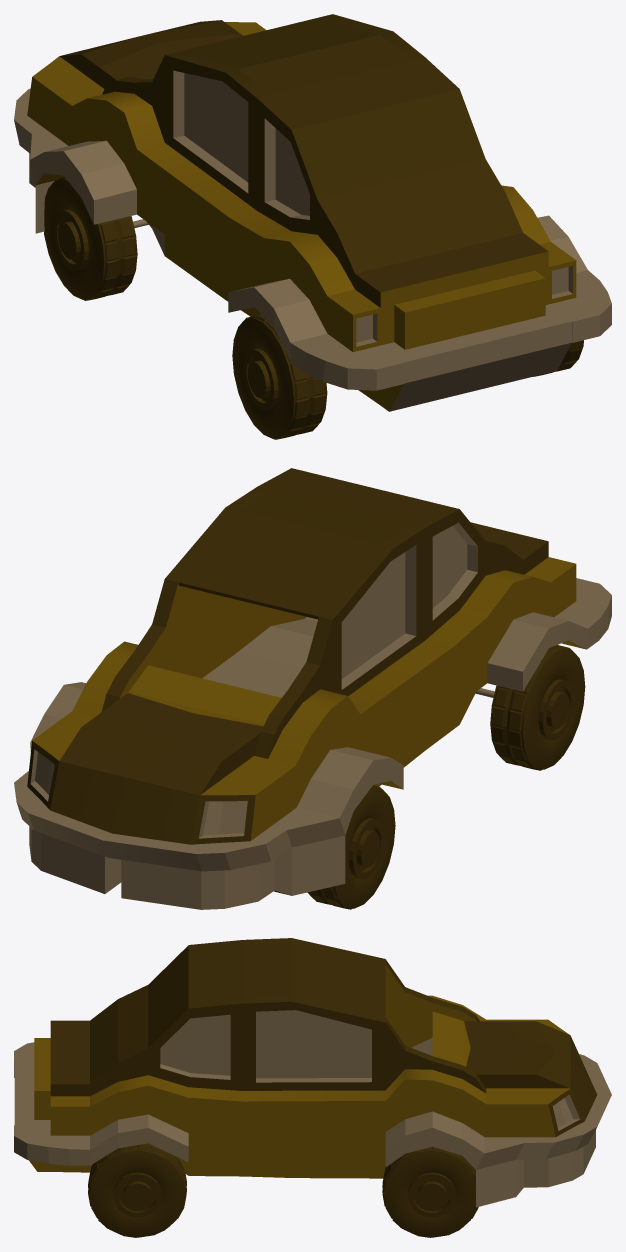
Rendered from Car_Blocks.fbx.
The picture shows the model from 3 angles, top to bottom: view 1: azimuth 30°, elevation 25°; view 2: azimuth 150°, elevation 25°; view 3: azimuth 270°, elevation 25°; orthographic projection. The views are drawn at different scales.
Visible parts, largest first — view 1: pCube3, pasted__pCylinder12, pasted__pCylinder11; view 2: pCube3, pasted__pCylinder12, pasted__pCylinder11; view 3: pCube3, pasted__pCylinder12, pasted__pCylinder11.
Boxes of the visible parts, x1,y1,x2,y2 form: pCube3: (14,14,611,411); pasted__pCylinder12: (232,314,583,439); pasted__pCylinder11: (44,177,148,300); pCube3: (14,468,611,909); pasted__pCylinder12: (475,645,585,770); pasted__pCylinder11: (307,785,395,909); pCube3: (14,938,611,1207); pasted__pCylinder12: (88,1143,186,1237); pasted__pCylinder11: (382,1147,478,1237).
Bounding box in the file's own units: 237 × 202 × 512.
Materials: 4 (1 with a texture image).
